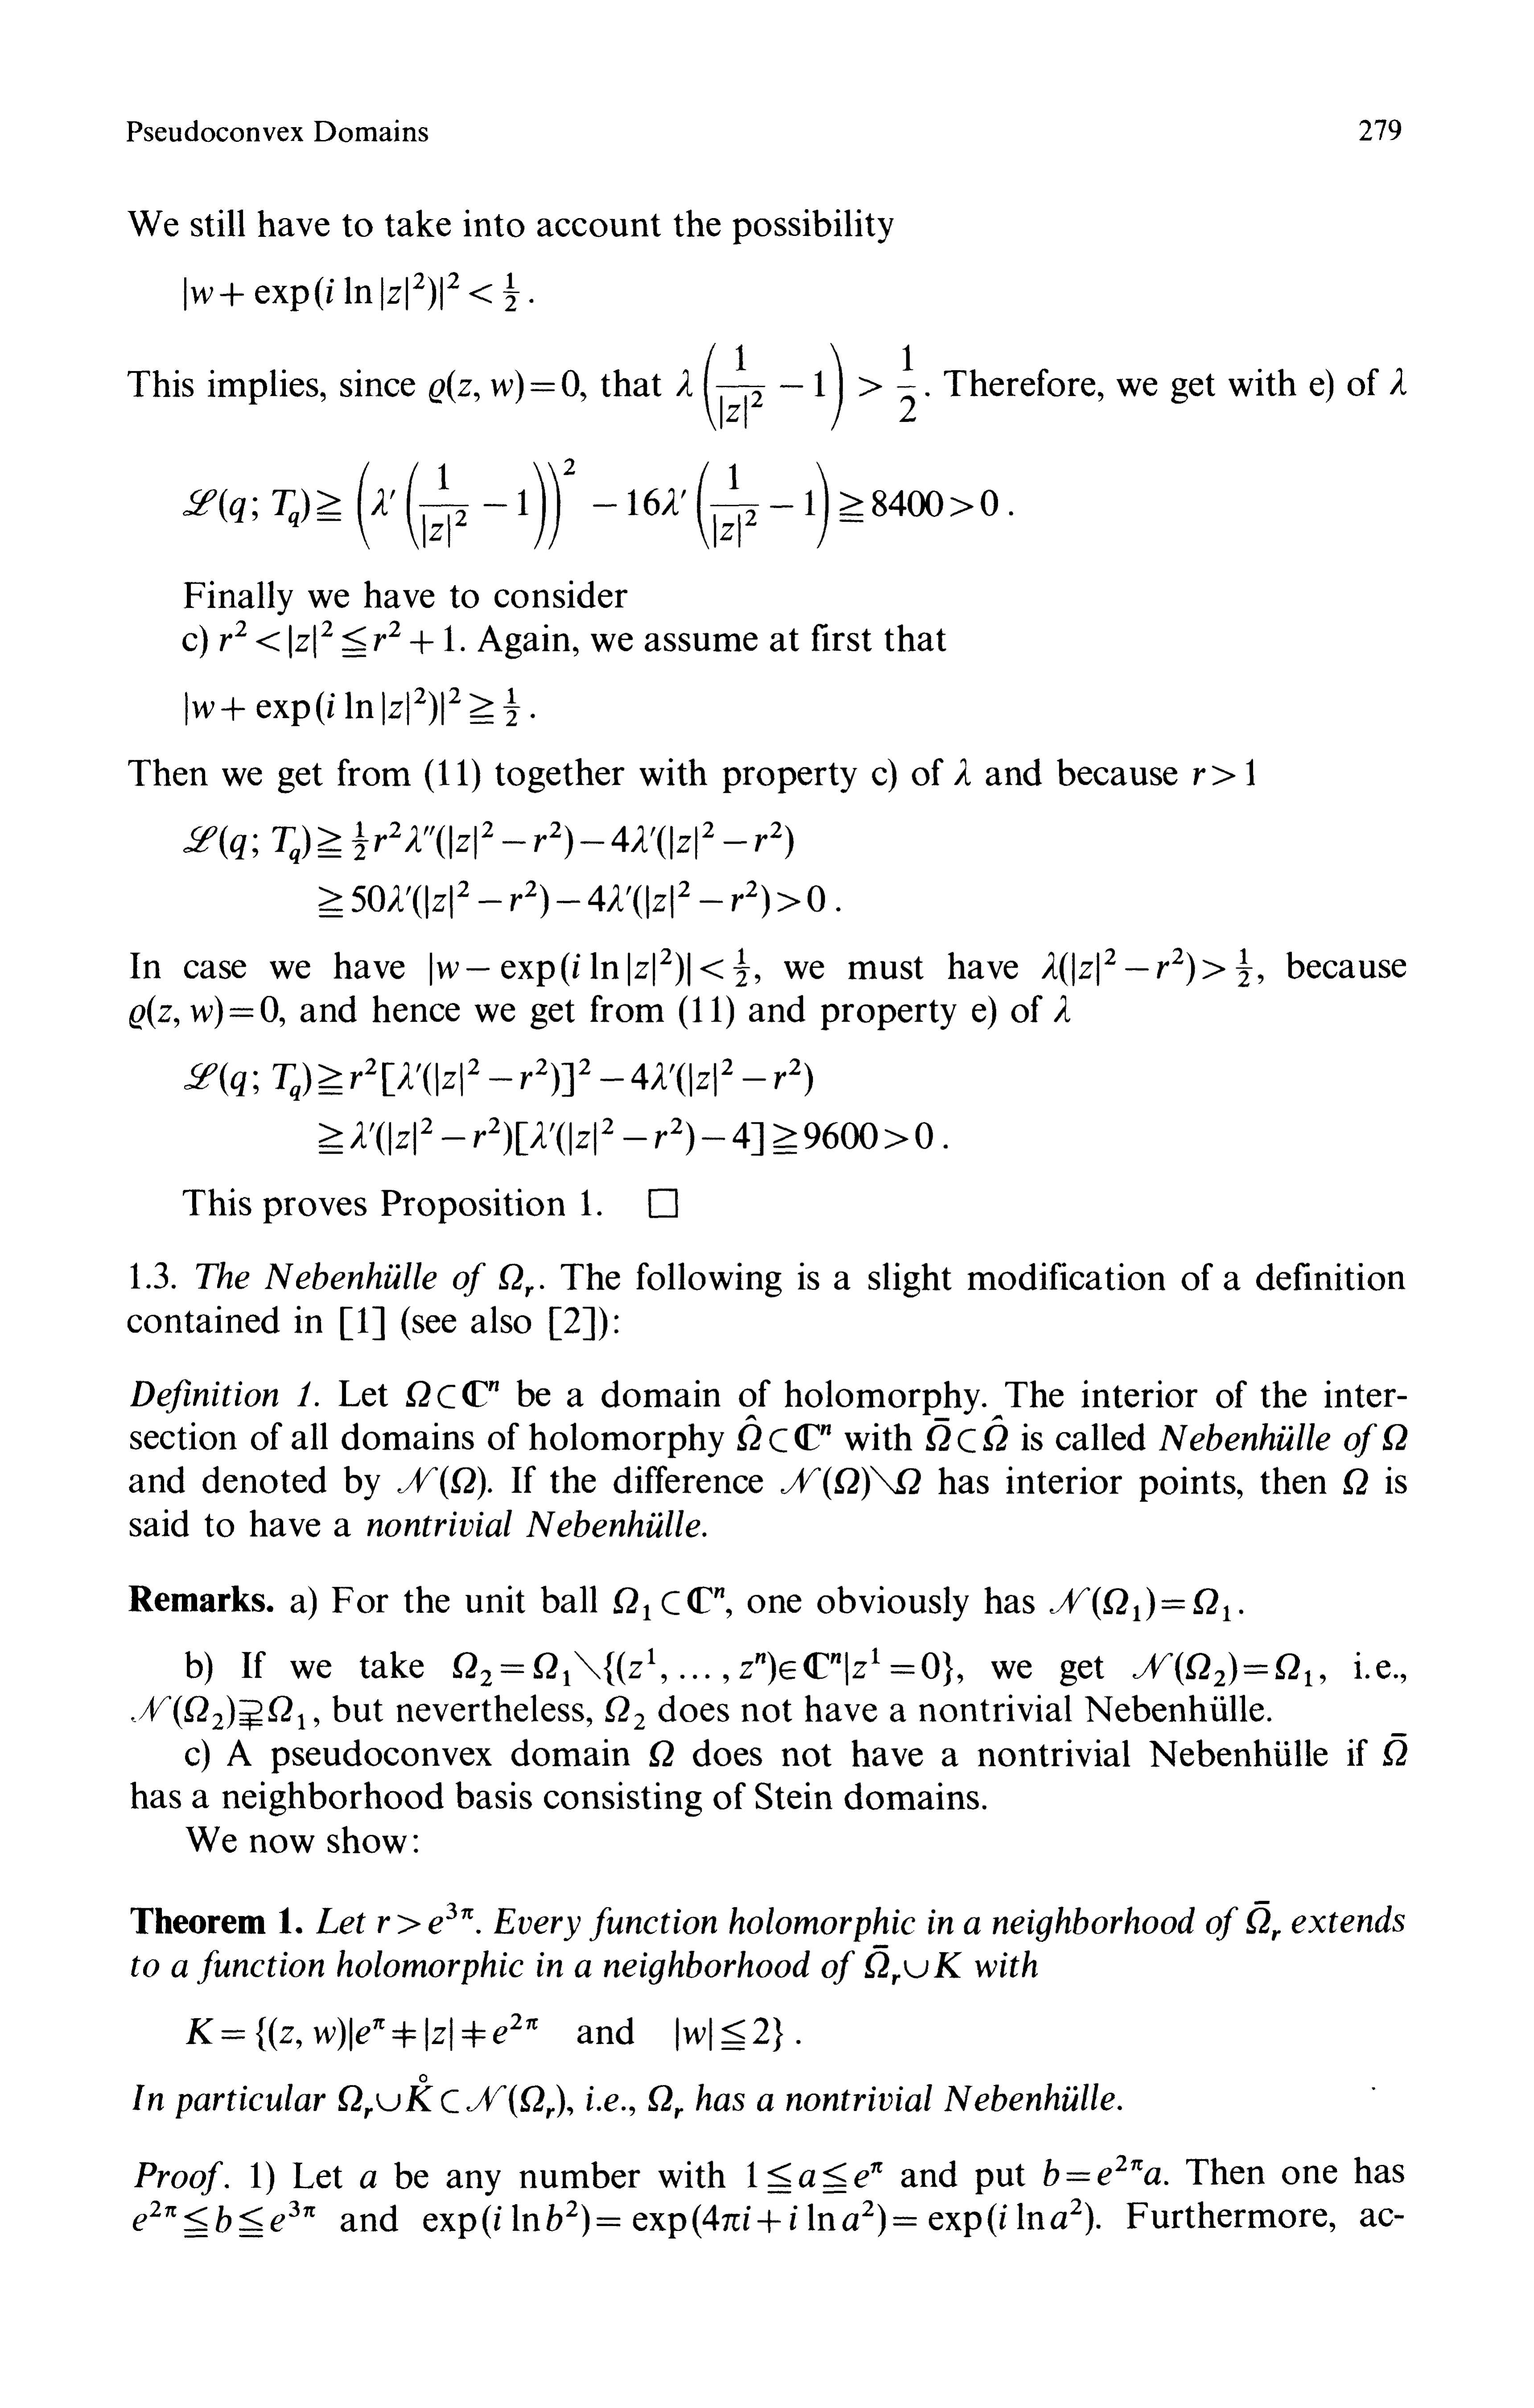maths: (183, 458, 997, 549), (423, 2197, 1093, 2238), (184, 1058, 813, 1100), (183, 821, 793, 864), (319, 1116, 932, 1155), (676, 342, 916, 430), (453, 1648, 953, 1687), (318, 881, 825, 918), (186, 2013, 537, 2050), (191, 272, 520, 311), (191, 688, 520, 725), (437, 948, 749, 986), (339, 2075, 565, 2118), (219, 620, 455, 658), (1043, 948, 1251, 986), (133, 2201, 314, 2238), (1050, 1587, 1230, 1622), (1132, 1652, 1313, 1687), (132, 1695, 305, 1731), (923, 1390, 1007, 1453), (428, 370, 586, 404), (130, 995, 284, 1028), (781, 1466, 921, 1501), (748, 2161, 883, 2194), (865, 1945, 962, 1985), (676, 2017, 783, 2052), (613, 1587, 723, 1620), (737, 1415, 830, 1453), (1044, 2155, 1160, 2185), (377, 1903, 472, 1934), (398, 1466, 484, 1499), (405, 1381, 498, 1408), (1194, 758, 1255, 785), (606, 1695, 644, 1729), (1246, 1901, 1280, 1939), (498, 1264, 534, 1297), (648, 2085, 683, 2118), (1383, 1734, 1408, 1766), (1383, 1425, 1408, 1450), (1343, 1469, 1367, 1494), (649, 1741, 674, 1766), (1053, 995, 1071, 1021), (1390, 367, 1406, 395), (955, 758, 971, 785), (360, 2171, 376, 2189)
